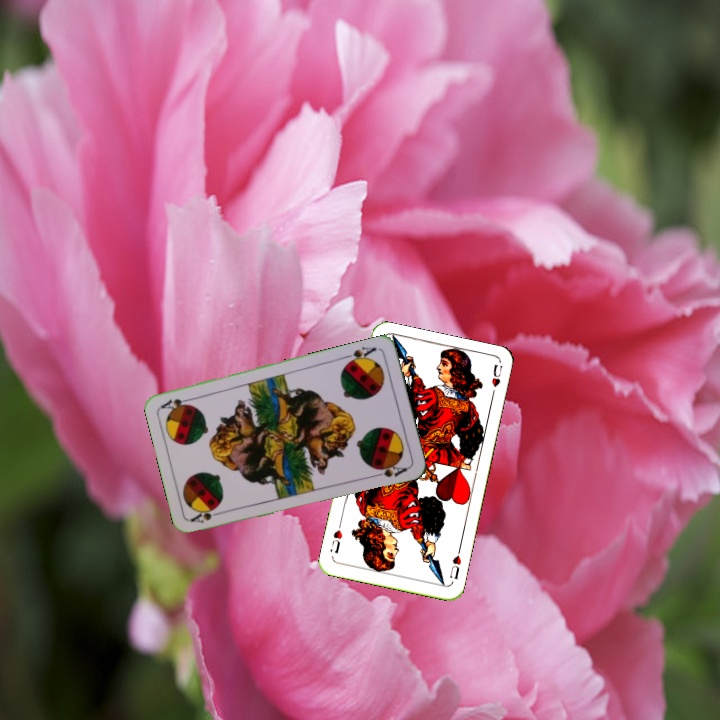HU: (446, 545, 464, 582)
SA: (340, 343, 379, 367), (187, 505, 227, 526)
